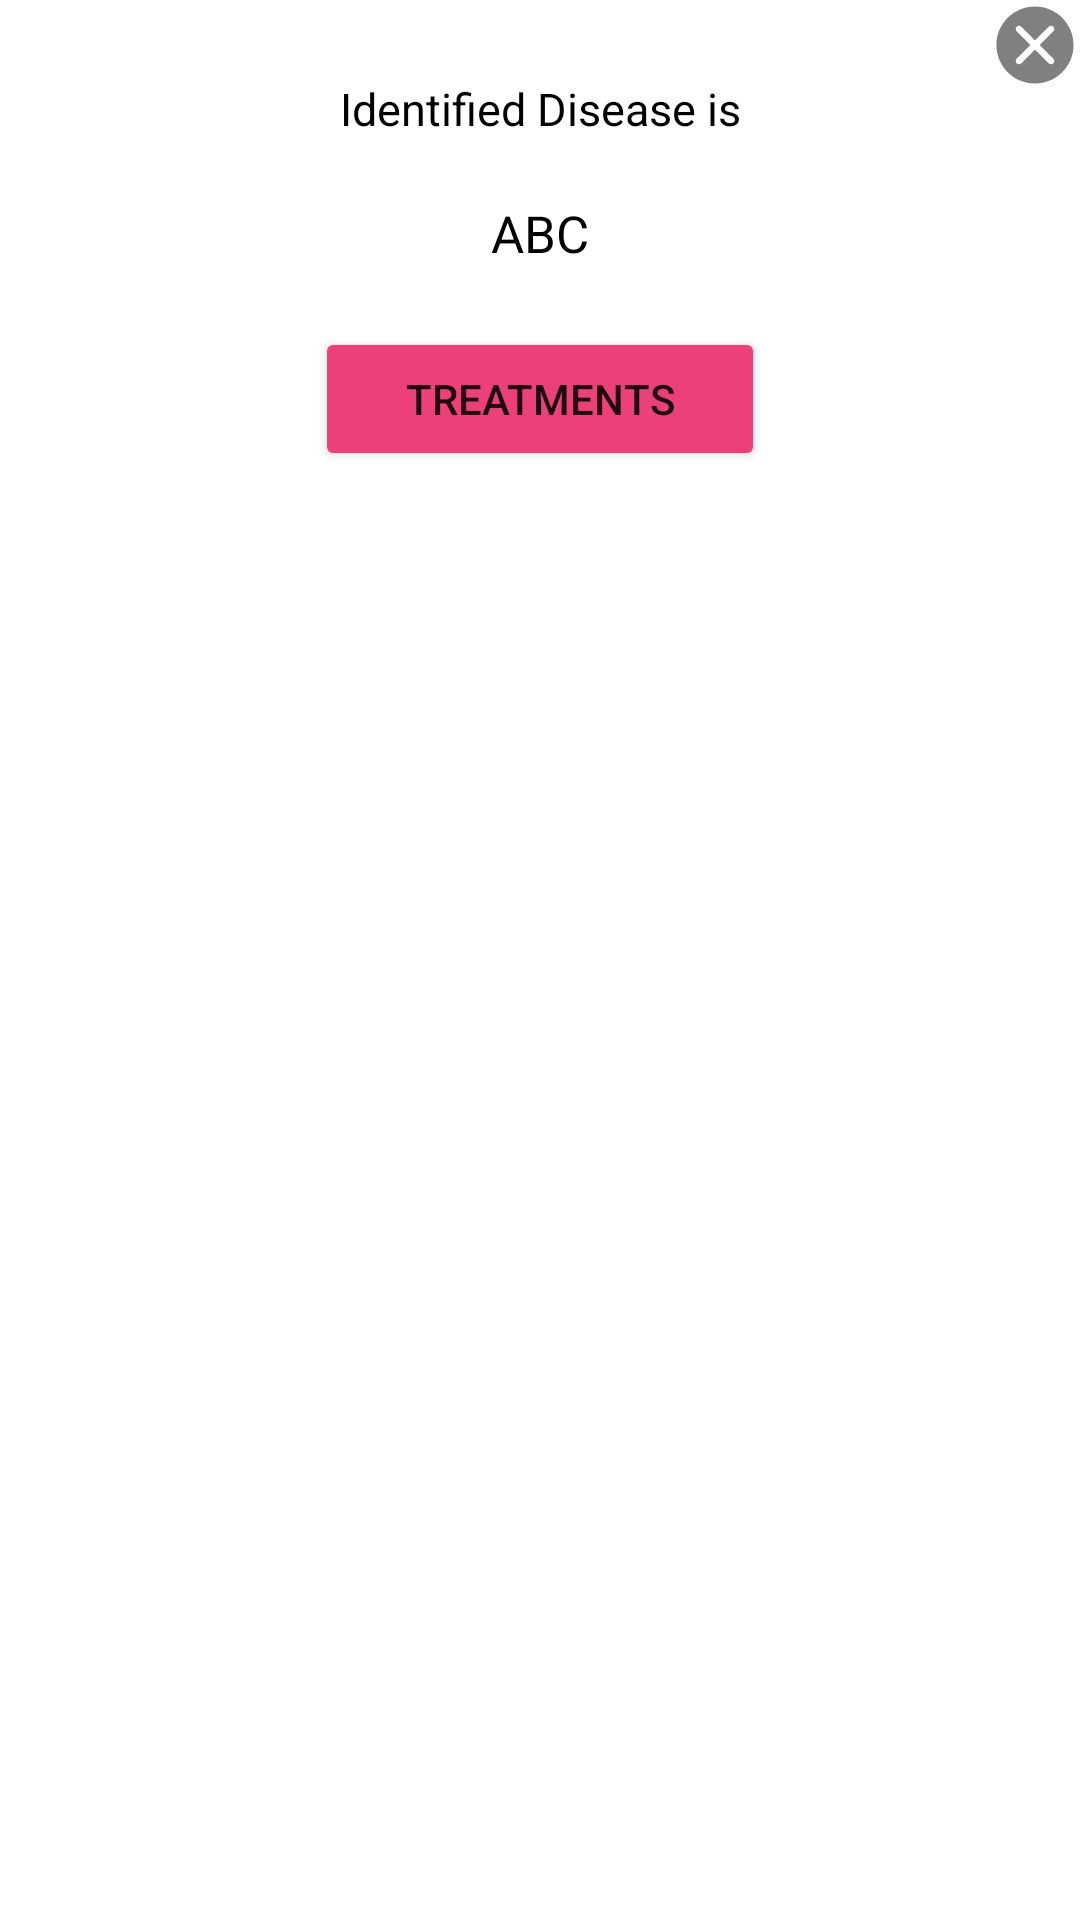

Named icons in this screenshot (1080 × 1920) and their bounding boxes, (x1,y1,x2,y2):
close: (996,6,1074,84)
